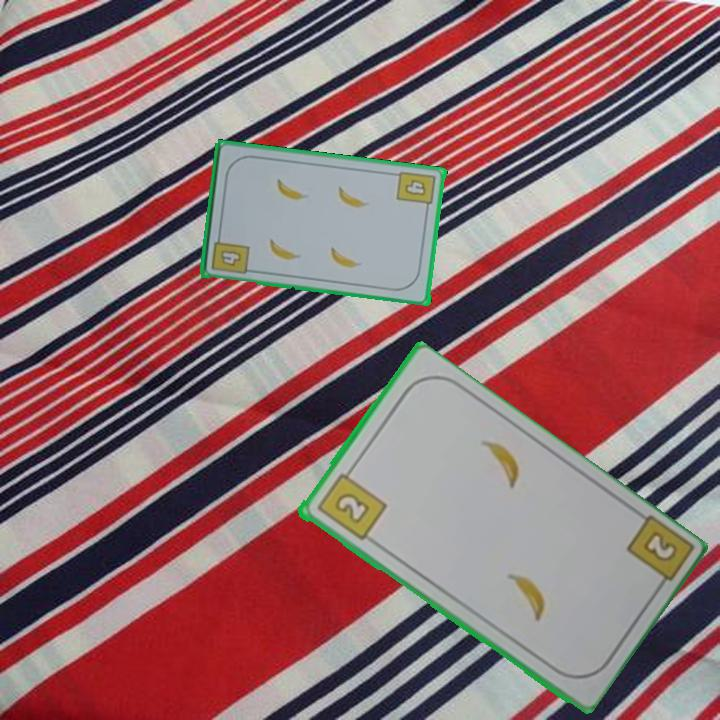2b: (313, 463, 389, 544), (639, 527, 680, 565)
4b: (394, 167, 439, 214), (208, 230, 252, 277)
